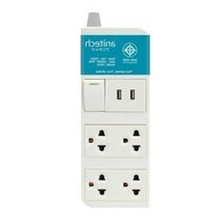three_eye_plug: (75, 24, 157, 211)
